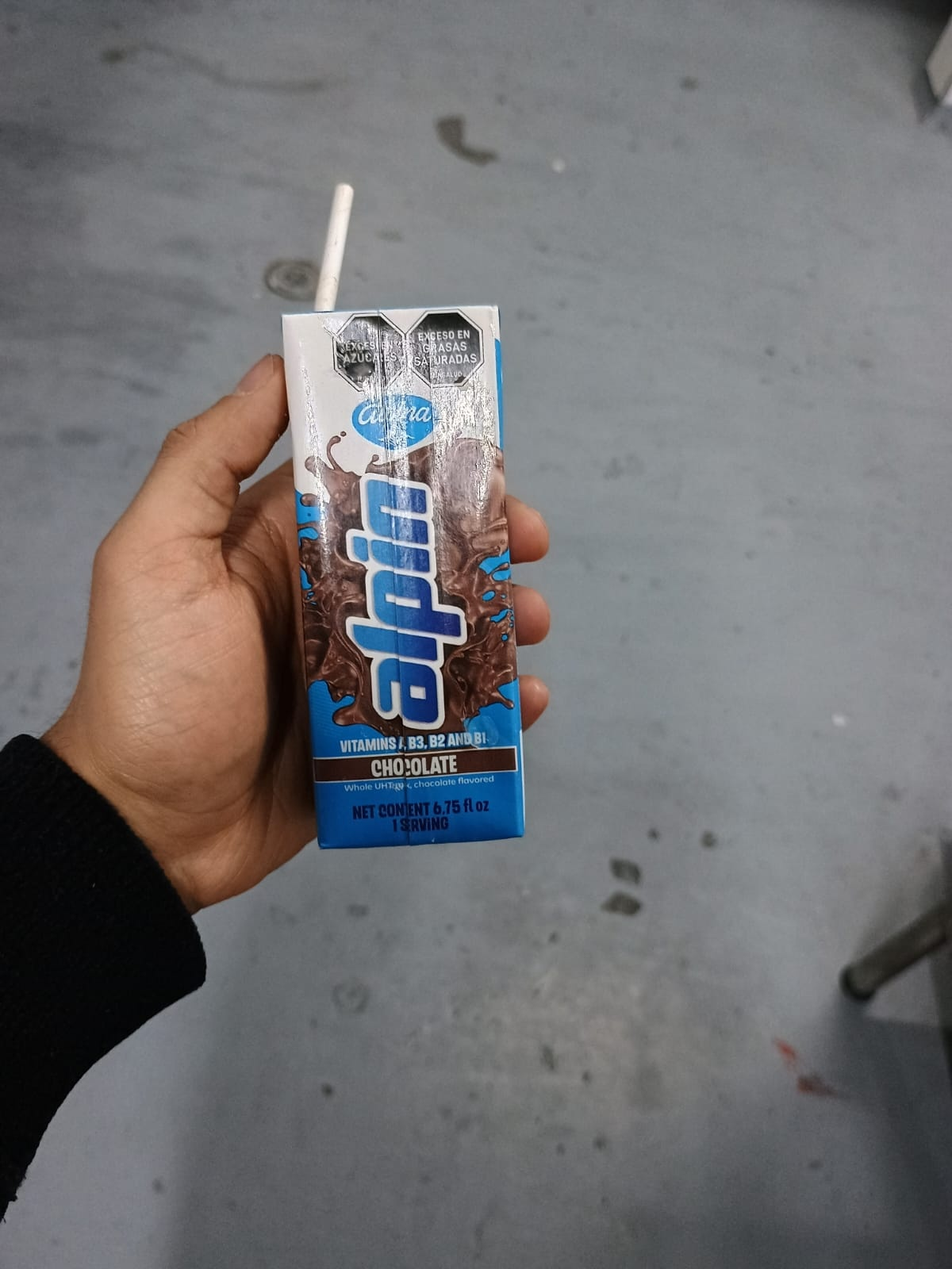Carton: (278, 303, 526, 850)
